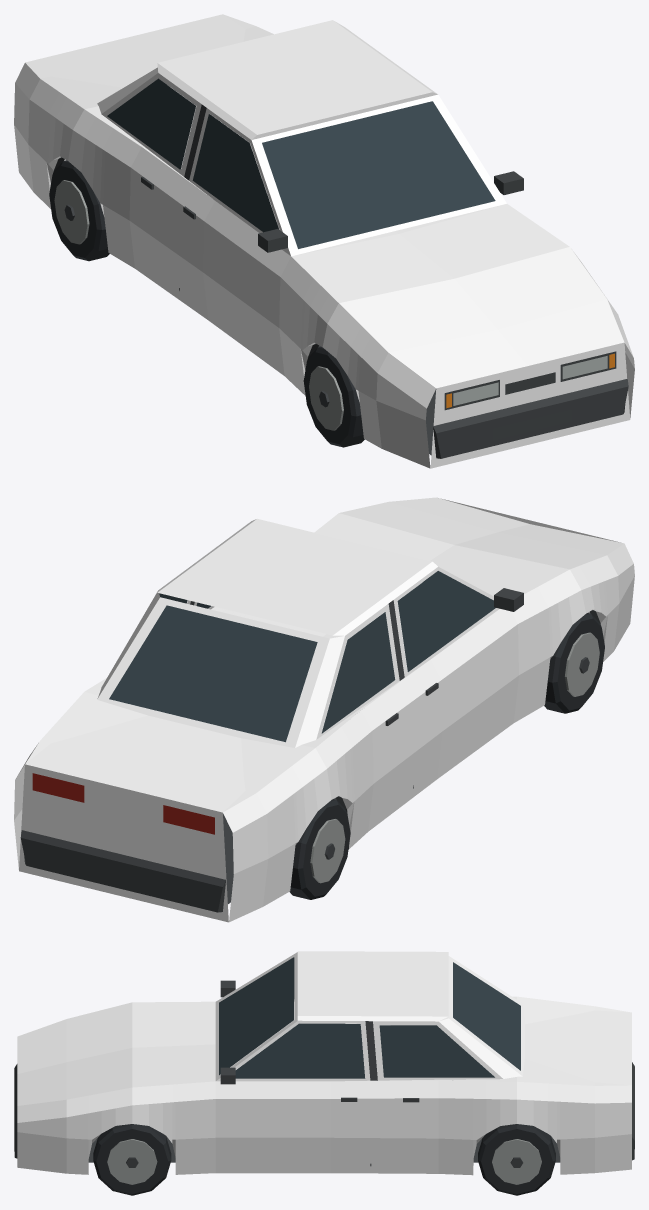
File: varenna_ghiaia_gt.glb
3 views of the same model, one above another, from view 1: azimuth 30°, elevation 25°; view 2: azimuth 150°, elevation 25°; view 3: azimuth 270°, elevation 25° (orthographic). The views are drawn at different scales.
Parts seen in each view (by area): view 1: varenna_ghiaia_gt; view 2: varenna_ghiaia_gt; view 3: varenna_ghiaia_gt.
Boxes of the visible parts, <box> form: varenna_ghiaia_gt: <box>14,14,634,468</box>; varenna_ghiaia_gt: <box>14,497,634,922</box>; varenna_ghiaia_gt: <box>14,951,634,1195</box>.
Bounding box in the file's own units: 1.84 × 1.47 × 4.97.
8 materials, 1 textured.
